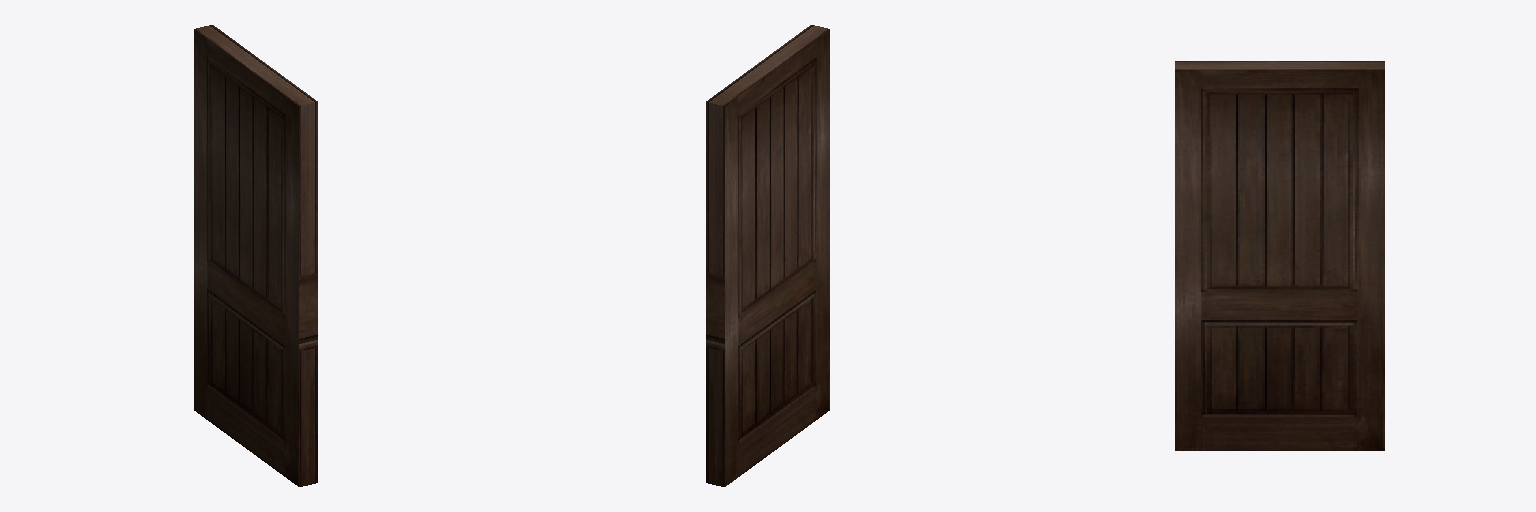
3 renders of one model, left to right at view 1: azimuth 30°, elevation 25°; view 2: azimuth 150°, elevation 25°; view 3: azimuth 270°, elevation 25°, orthographic.
Visible parts, largest first — view 1: Door_Cube; view 2: Door_Cube; view 3: Door_Cube.
Part boxes in pixels (bbox=[...]): Door_Cube: bbox=[194, 25, 317, 486]; Door_Cube: bbox=[706, 25, 829, 486]; Door_Cube: bbox=[1175, 61, 1384, 450].
Bounding box in the file's own units: 0.1547 × 2.99 × 1.5.
Materials: 1 (1 with a texture image).